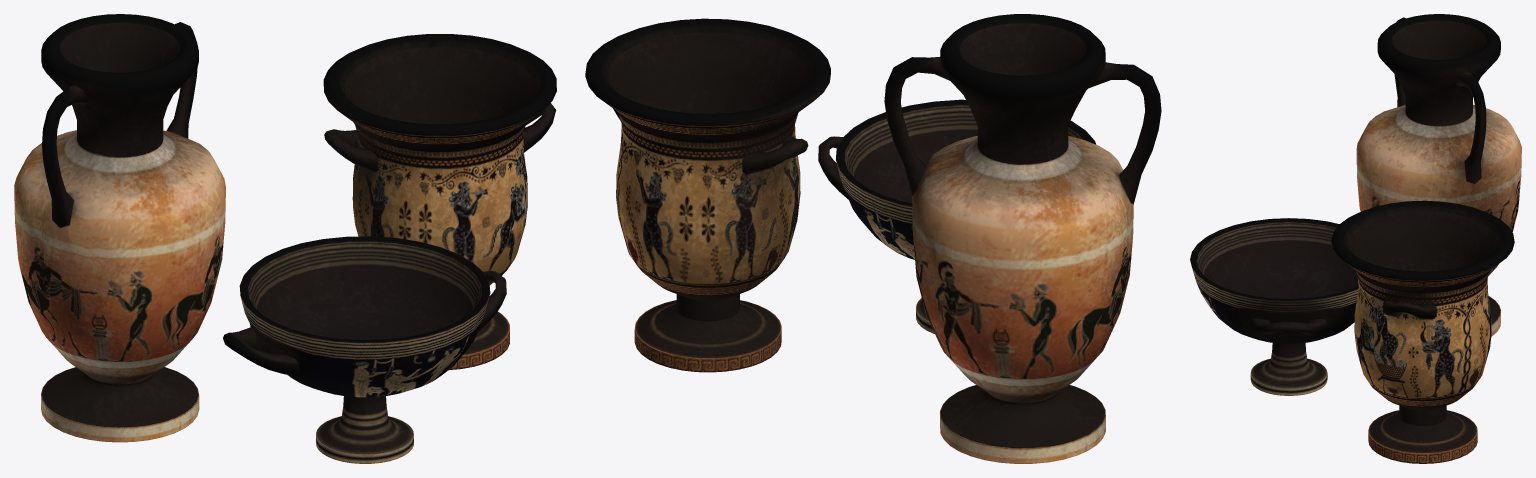
File: potterySet.glb
The picture shows the model from 3 angles, left to right: view 1: azimuth 30°, elevation 25°; view 2: azimuth 150°, elevation 25°; view 3: azimuth 270°, elevation 25°; orthographic projection. The views are drawn at different scales.
Visible parts, largest first — view 1: Vases_low.001; view 2: Vases_low.001; view 3: Vases_low.001.
Boxes of the visible parts, bbox=[...] form: Vases_low.001: bbox=[14, 14, 556, 463]; Vases_low.001: bbox=[585, 14, 1161, 463]; Vases_low.001: bbox=[1190, 14, 1521, 463].
Bounding box in the file's own units: 1.43 × 0.9677 × 1.02.
Materials: 1 (1 with a texture image).
